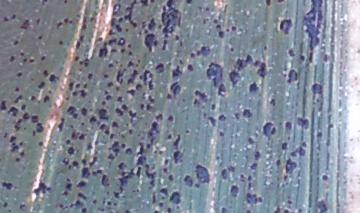tarspot: (301, 1, 325, 64), (228, 54, 268, 86), (160, 1, 182, 39), (114, 161, 135, 196), (193, 162, 211, 190), (205, 62, 224, 88), (123, 1, 137, 28), (139, 69, 155, 92), (32, 179, 52, 197), (192, 89, 210, 107), (143, 33, 158, 54), (30, 114, 44, 136), (277, 17, 294, 35), (143, 168, 158, 188), (261, 121, 277, 139), (284, 158, 298, 177), (107, 140, 120, 160), (294, 115, 311, 130), (290, 145, 306, 160), (310, 82, 324, 99), (148, 120, 161, 138), (220, 165, 235, 180), (314, 197, 328, 213), (196, 45, 212, 59), (97, 39, 108, 59), (286, 69, 299, 85), (169, 80, 182, 96), (244, 192, 258, 206), (228, 184, 241, 199), (169, 191, 184, 204), (115, 67, 125, 86), (247, 81, 260, 95), (172, 150, 185, 164), (170, 64, 183, 78), (97, 107, 109, 122), (217, 82, 228, 98), (172, 133, 182, 150), (66, 105, 78, 119), (183, 174, 194, 189), (136, 140, 145, 158), (57, 116, 66, 134), (13, 117, 23, 133), (241, 108, 254, 120), (281, 119, 293, 132), (77, 190, 89, 203), (134, 155, 147, 167), (97, 123, 109, 136), (127, 109, 137, 124), (80, 166, 91, 179), (207, 115, 217, 129), (112, 1, 122, 15), (154, 62, 166, 73), (19, 18, 30, 30), (101, 173, 109, 189), (147, 17, 156, 31), (91, 167, 105, 176), (48, 73, 59, 84), (88, 155, 99, 166), (57, 202, 69, 212), (109, 15, 117, 29), (81, 16, 88, 32), (36, 80, 46, 91), (8, 106, 19, 116), (77, 88, 87, 99), (9, 142, 19, 153), (120, 102, 130, 113), (287, 46, 296, 58), (1, 181, 13, 190), (160, 39, 169, 51), (75, 180, 87, 189), (238, 172, 247, 184), (79, 105, 88, 117), (1, 98, 8, 113), (280, 173, 290, 183), (61, 156, 71, 166), (232, 111, 242, 121), (147, 93, 157, 103), (110, 119, 120, 129), (250, 161, 259, 172), (158, 186, 169, 195), (85, 141, 94, 152), (114, 107, 123, 118), (71, 128, 79, 140), (218, 113, 228, 122), (268, 97, 277, 107), (41, 95, 51, 104), (155, 112, 165, 121), (28, 92, 38, 101), (113, 24, 123, 33), (64, 182, 74, 191), (125, 86, 135, 95), (201, 16, 210, 26), (322, 53, 330, 64), (209, 101, 217, 112), (253, 150, 261, 161), (246, 181, 254, 192), (67, 80, 75, 91), (107, 37, 118, 45), (151, 190, 157, 204), (136, 166, 143, 178), (68, 202, 80, 209), (300, 139, 309, 148), (165, 114, 174, 123), (124, 147, 133, 156), (14, 94, 23, 103), (130, 69, 139, 78), (126, 59, 135, 68), (217, 129, 225, 139), (271, 205, 281, 213), (186, 64, 194, 74), (217, 29, 225, 39), (166, 173, 176, 181), (80, 156, 88, 166), (117, 36, 125, 46), (86, 72, 94, 82), (88, 115, 98, 123), (218, 206, 229, 213), (247, 135, 254, 146), (246, 172, 253, 183), (67, 145, 74, 156), (74, 40, 81, 51), (320, 173, 328, 182), (316, 131, 325, 139), (39, 54, 48, 62), (15, 70, 23, 79), (17, 202, 26, 210), (11, 39, 20, 47), (214, 23, 222, 32), (165, 92, 173, 101), (71, 159, 80, 167), (1, 201, 10, 209), (145, 103, 153, 112), (78, 132, 86, 141), (115, 94, 123, 103), (124, 77, 132, 86), (21, 111, 30, 119), (1, 131, 9, 140), (111, 189, 119, 198), (78, 33, 86, 42), (281, 141, 288, 151), (328, 122, 336, 130), (57, 38, 65, 46), (55, 21, 63, 29), (13, 85, 21, 93), (10, 12, 18, 20), (285, 198, 293, 206), (64, 175, 72, 183), (133, 81, 141, 89), (106, 80, 114, 88), (37, 33, 44, 42), (8, 54, 15, 63), (3, 15, 10, 24), (139, 1, 148, 8), (230, 24, 237, 33), (225, 26, 232, 35), (20, 101, 27, 110), (163, 157, 170, 166), (8, 134, 17, 141), (78, 120, 87, 127), (109, 46, 118, 53), (257, 194, 263, 204), (178, 38, 184, 48), (139, 102, 145, 112), (264, 1, 271, 9), (42, 69, 49, 77), (173, 34, 181, 41), (166, 133, 173, 141), (80, 206, 88, 213), (126, 48, 133, 56), (118, 47, 126, 54), (117, 16, 124, 24), (214, 154, 221, 162), (106, 62, 113, 70), (127, 127, 134, 135), (161, 166, 169, 173), (145, 142, 152, 150), (19, 149, 26, 157), (102, 89, 109, 97), (95, 35, 103, 42), (105, 200, 113, 207), (299, 53, 305, 62), (61, 190, 70, 196), (147, 137, 156, 143), (178, 57, 184, 66), (184, 128, 191, 135), (126, 42, 133, 49), (102, 72, 109, 79), (120, 142, 127, 149), (81, 81, 88, 88), (83, 56, 90, 63), (88, 15, 95, 22), (262, 45, 268, 53), (40, 1, 48, 7), (35, 17, 41, 25), (275, 158, 281, 166), (189, 51, 195, 59), (212, 17, 218, 25), (166, 205, 172, 213), (75, 82, 81, 90), (109, 131, 115, 139), (73, 53, 79, 61), (197, 4, 203, 12), (282, 72, 288, 80), (152, 148, 158, 156), (123, 208, 132, 213), (28, 58, 35, 64), (37, 140, 44, 146), (296, 207, 303, 213), (229, 46, 235, 53), (62, 16, 68, 23), (100, 100, 107, 106), (105, 95, 112, 101), (91, 198, 97, 205), (83, 61, 89, 68), (68, 19, 74, 26), (64, 96, 71, 102), (184, 1, 194, 5), (204, 5, 209, 13), (65, 137, 70, 145), (71, 90, 77, 96), (14, 156, 20, 162), (22, 57, 28, 63), (19, 51, 25, 57), (281, 208, 288, 213), (244, 208, 251, 213), (151, 209, 159, 213), (63, 1, 69, 6), (18, 141, 24, 146), (275, 1, 286, 3), (148, 1, 155, 4)
